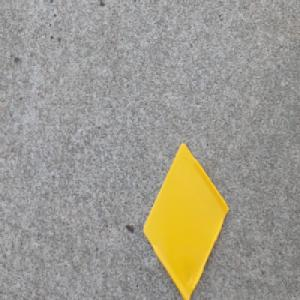PlasticPart: (142, 142, 229, 300)
